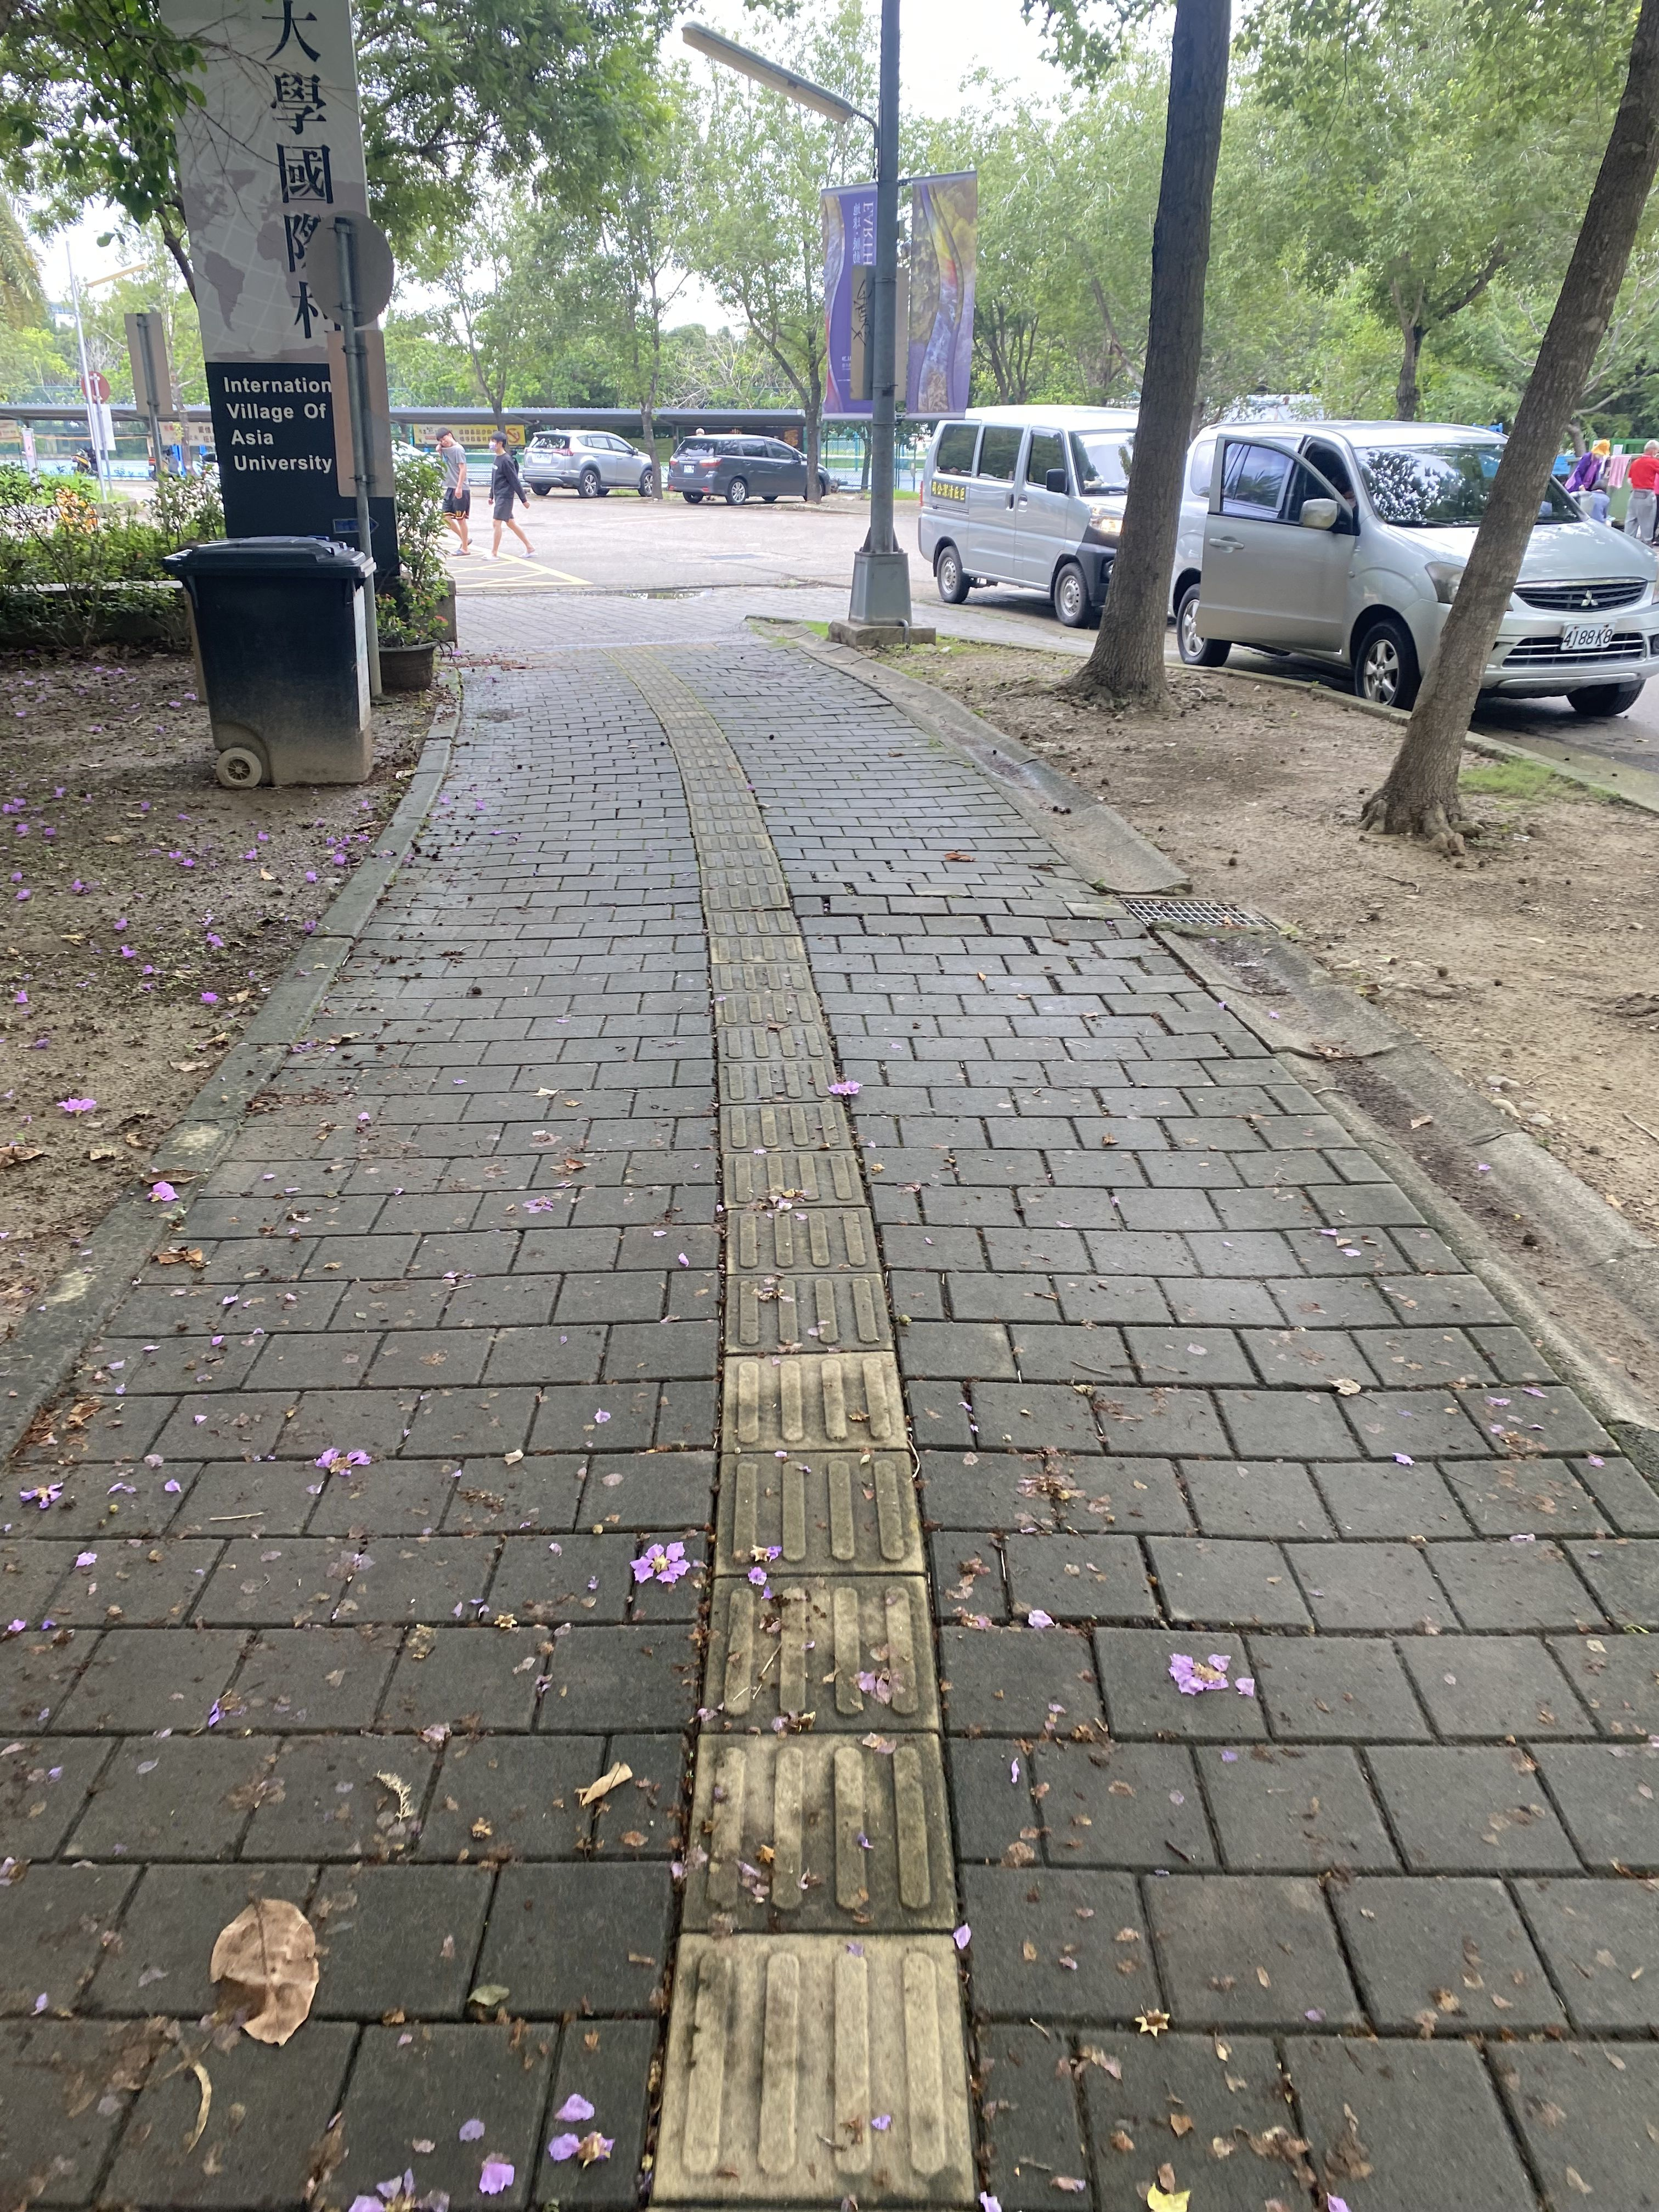sidewalk: (0, 585, 1659, 2212)
